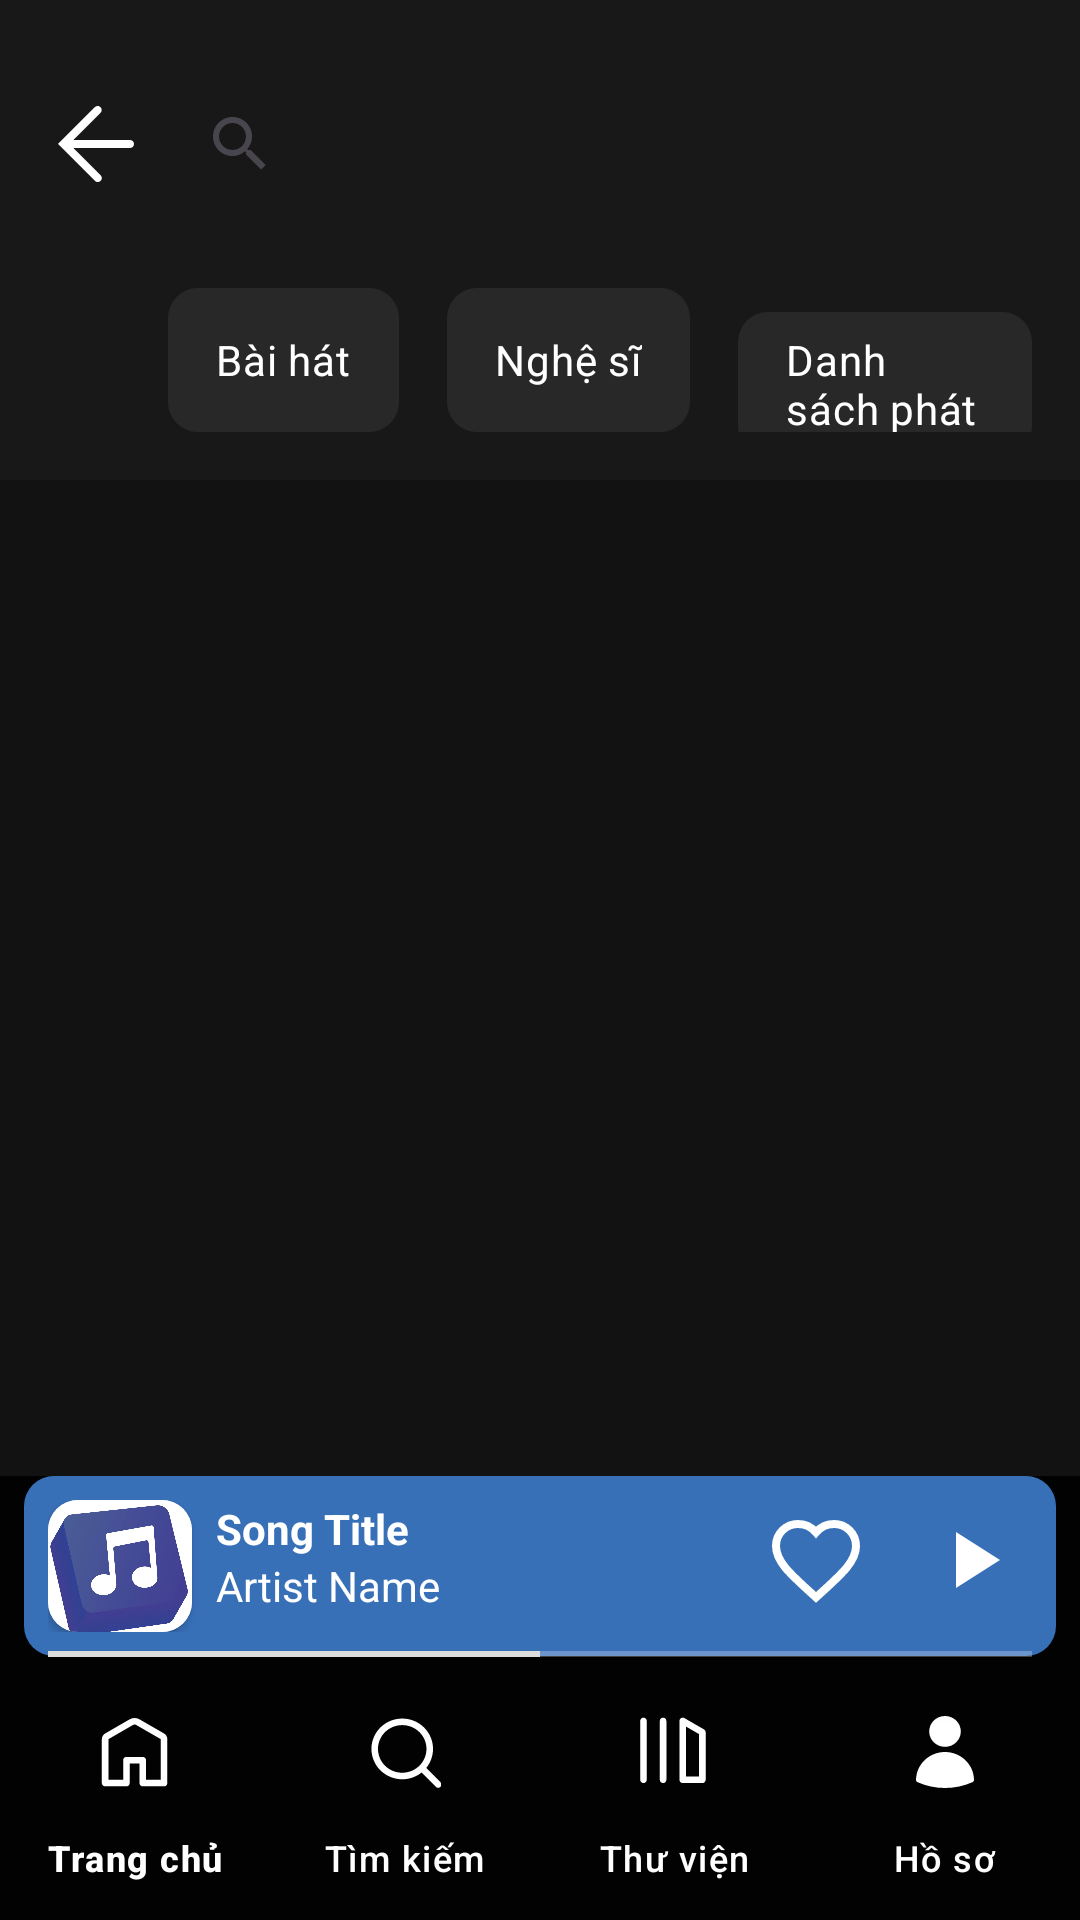

Screen size 1080×1920. Icon name, then its box in pixels as bbox=(x1, y1, x2, y2):
Hình ảnh bài hát: bbox=(48, 1500, 192, 1632)
Nút phát: bbox=(956, 1532, 1000, 1588)
Quay lại: bbox=(58, 106, 134, 182)
Thích: bbox=(772, 1520, 860, 1603)
